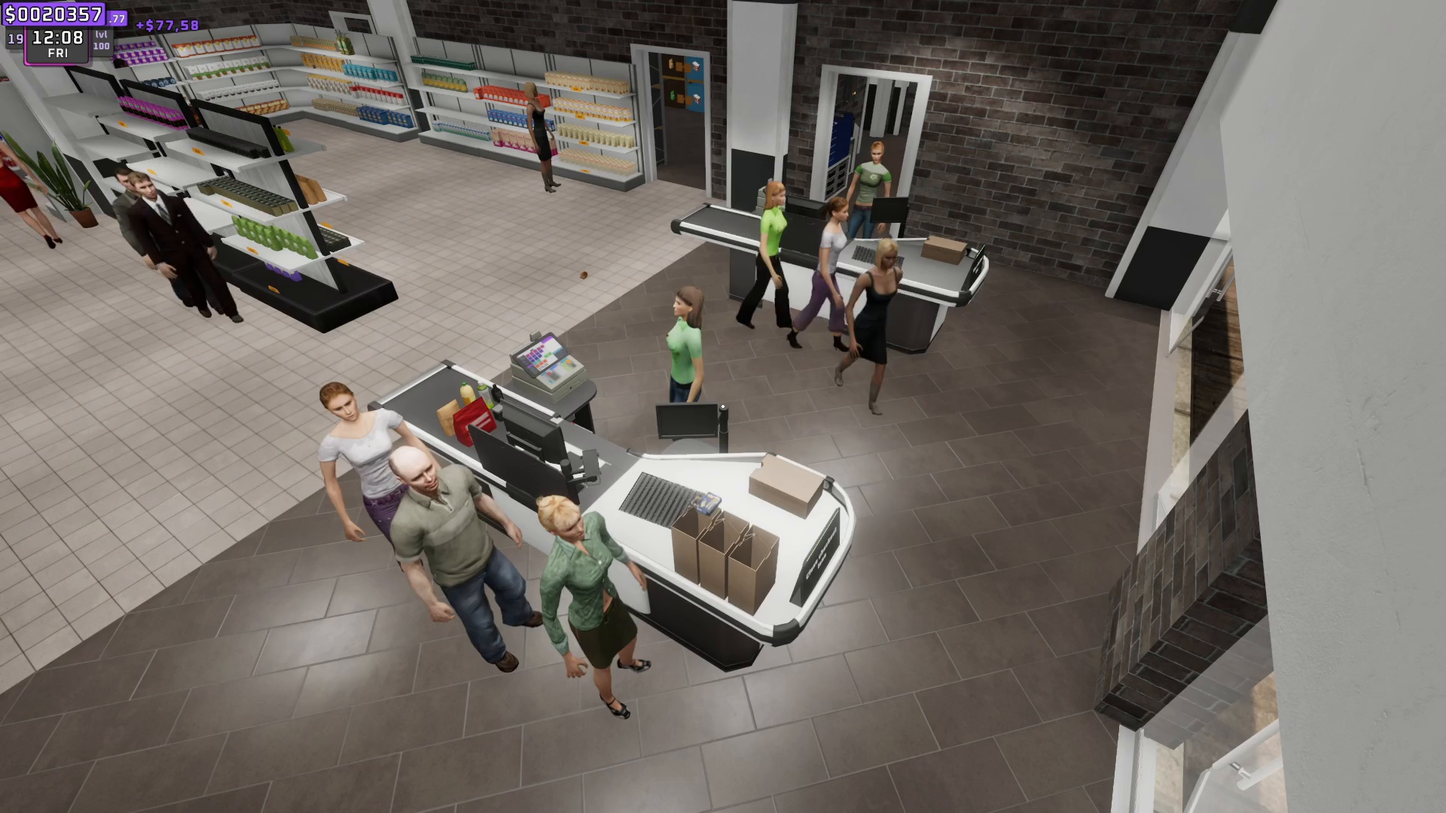Client: (391, 446, 534, 679), (535, 498, 655, 716), (315, 381, 393, 524), (855, 226, 904, 420), (765, 183, 799, 336), (820, 205, 847, 346)
Employee: (668, 289, 707, 406), (851, 141, 893, 226)
